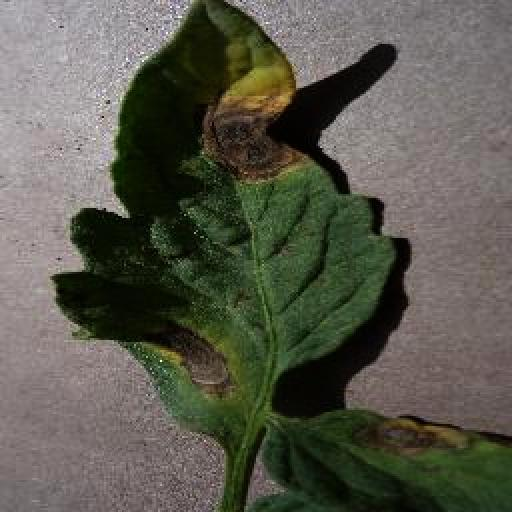disease_tomato: (48, 2, 394, 434)
